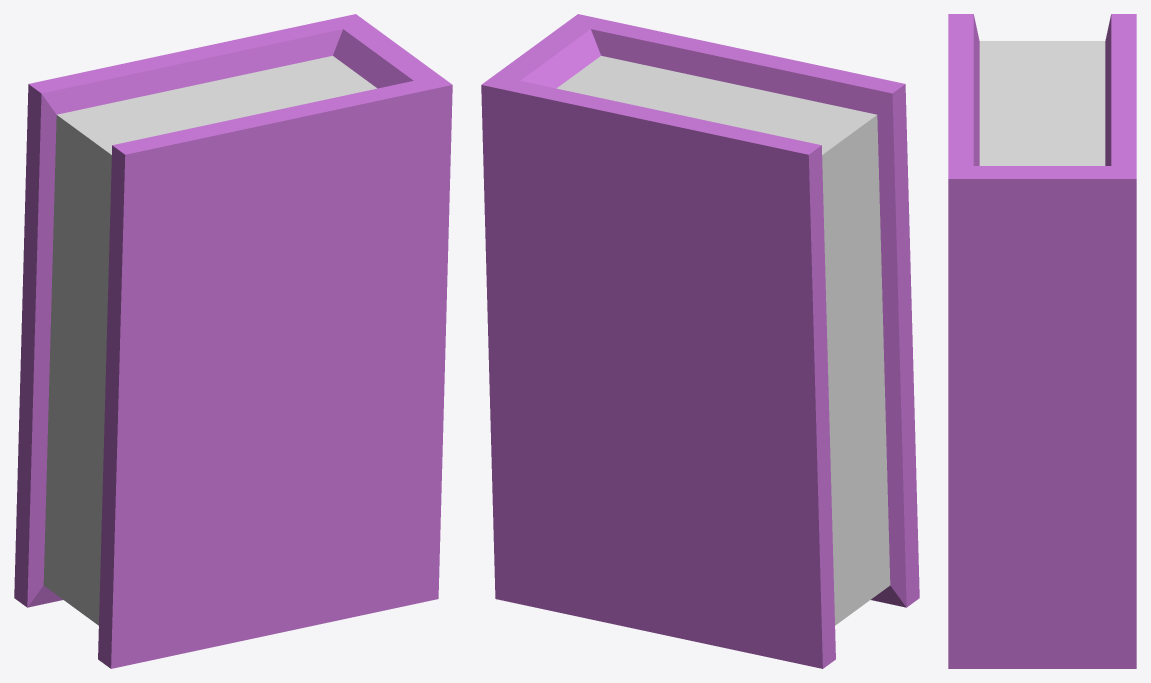
File: Libros.080.fbx
The picture shows the model from 3 angles, left to right: view 1: azimuth 30°, elevation 25°; view 2: azimuth 150°, elevation 25°; view 3: azimuth 270°, elevation 25°; orthographic projection. The views are drawn at different scales.
Parts seen in each view (by area): view 1: Libros.080; view 2: Libros.080; view 3: Libros.080.
Part boxes in pixels (x1,y1,x2,y2): Libros.080: (14,14,452,668); Libros.080: (481,14,919,668); Libros.080: (948,14,1136,668).
Bounding box in the file's own units: 28.64 × 41.7 × 14.06.
